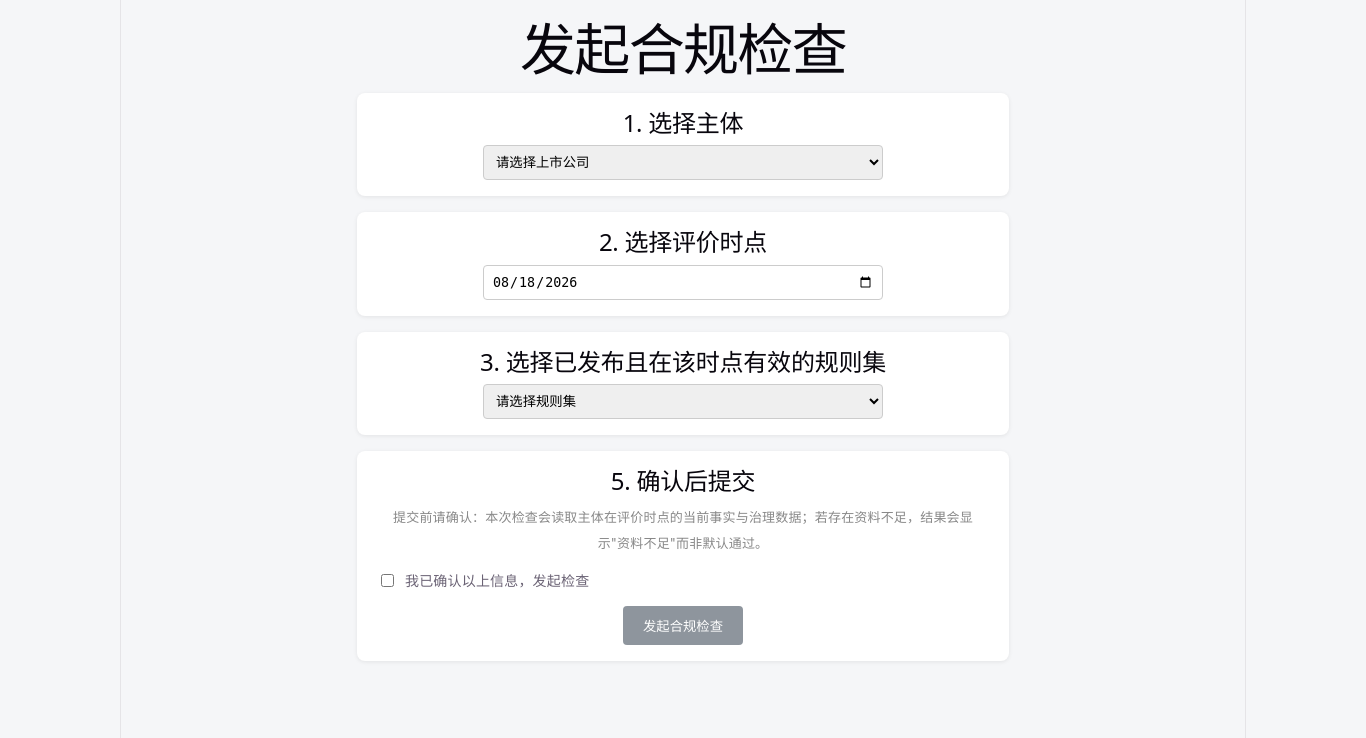
Test case: ComplianceCheckWizardView › shows the backend error and re-enables the button when submission fails
The image size is (1366, 738).
Select "演示上市公司" in the dropdown below "1. 选择主体" at [683, 163], box 483,145 -> 883,180
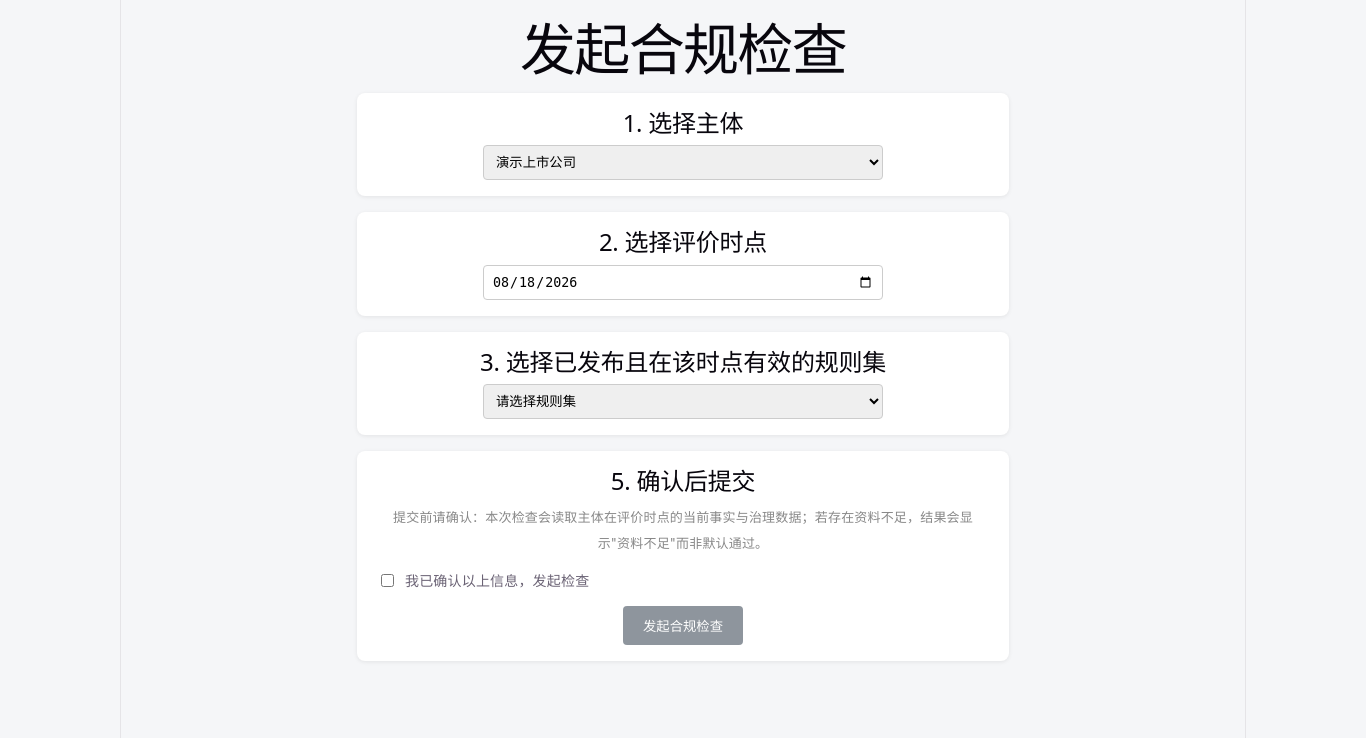
Select "上市公司治理规则集（v1）" in the dropdown below "3. 选择已发布且在该时点有效的规则集" at [683, 402], box 483,384 -> 883,419
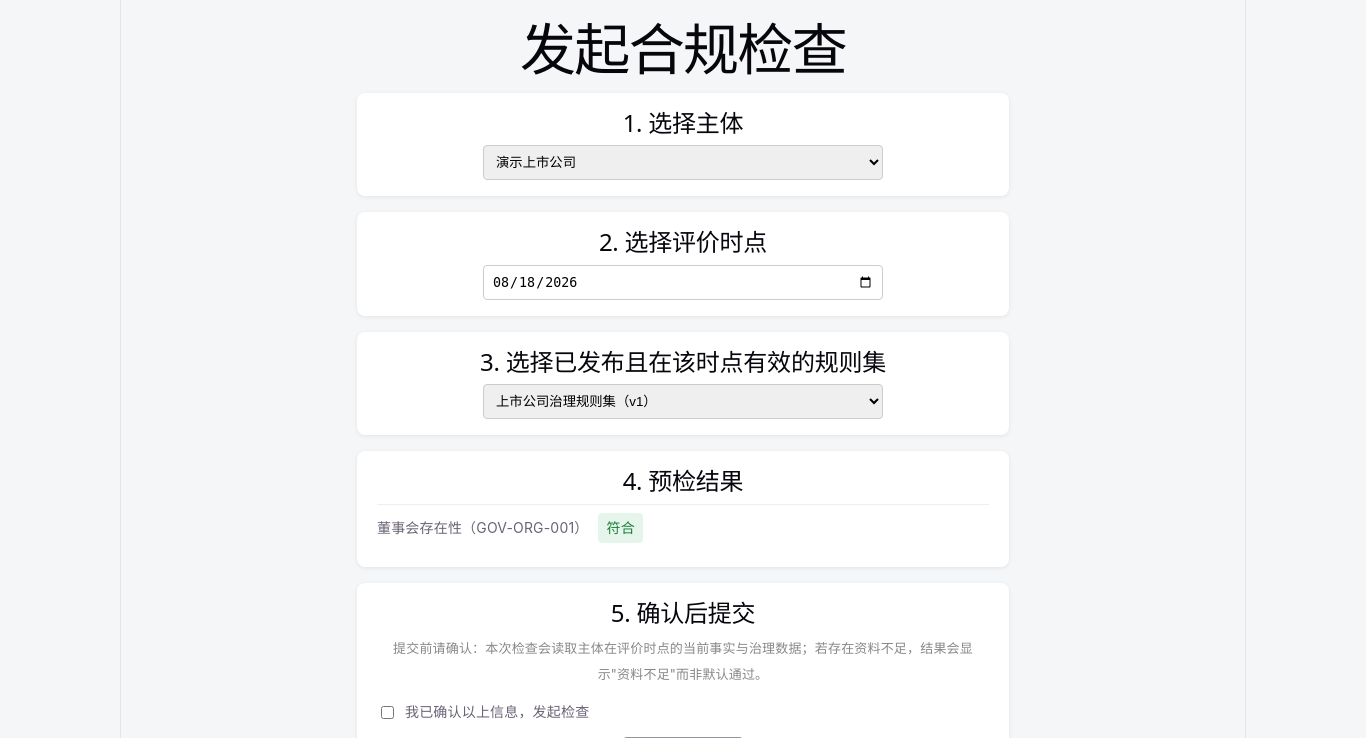
Click the checkbox labelled "我已确认以上信息，发起检查" at [388, 712], box 381,706 -> 394,719
(page scrolled)
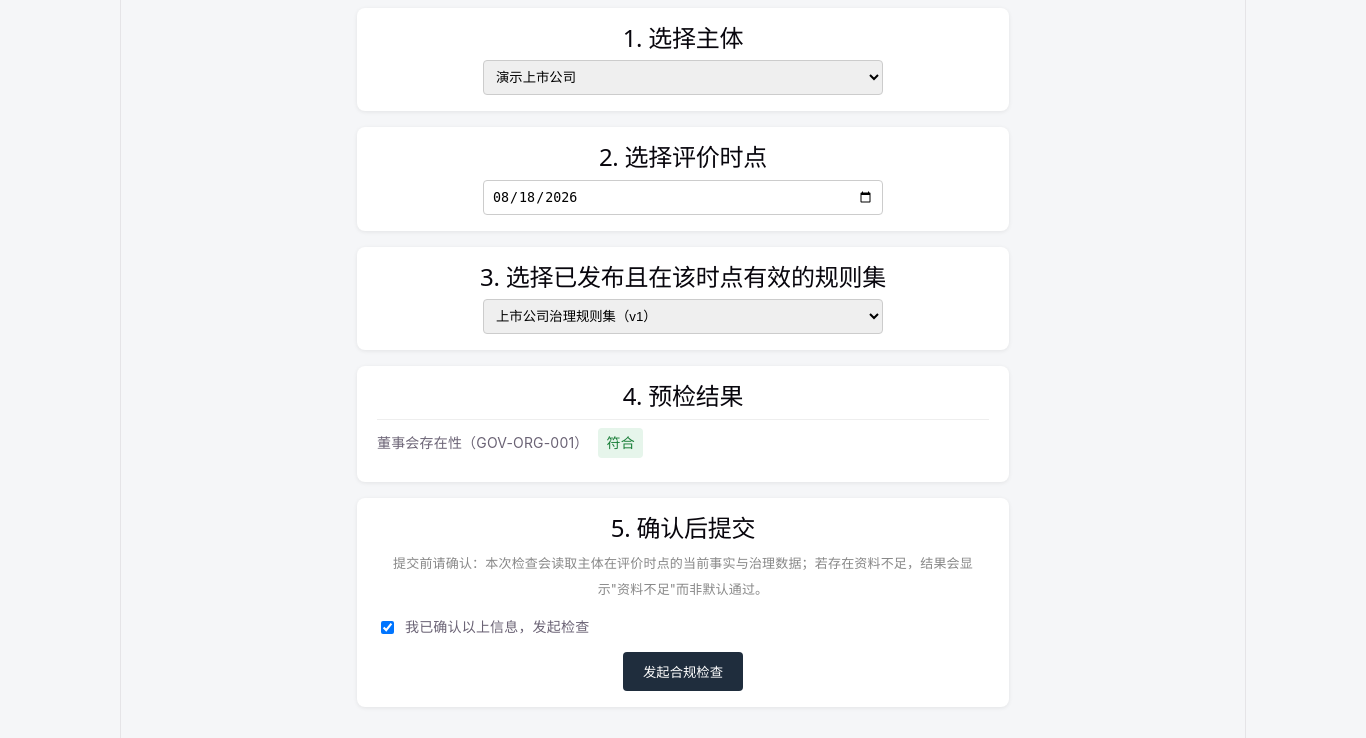
Click the button "发起合规检查" at [683, 672], box 623,652 -> 743,691
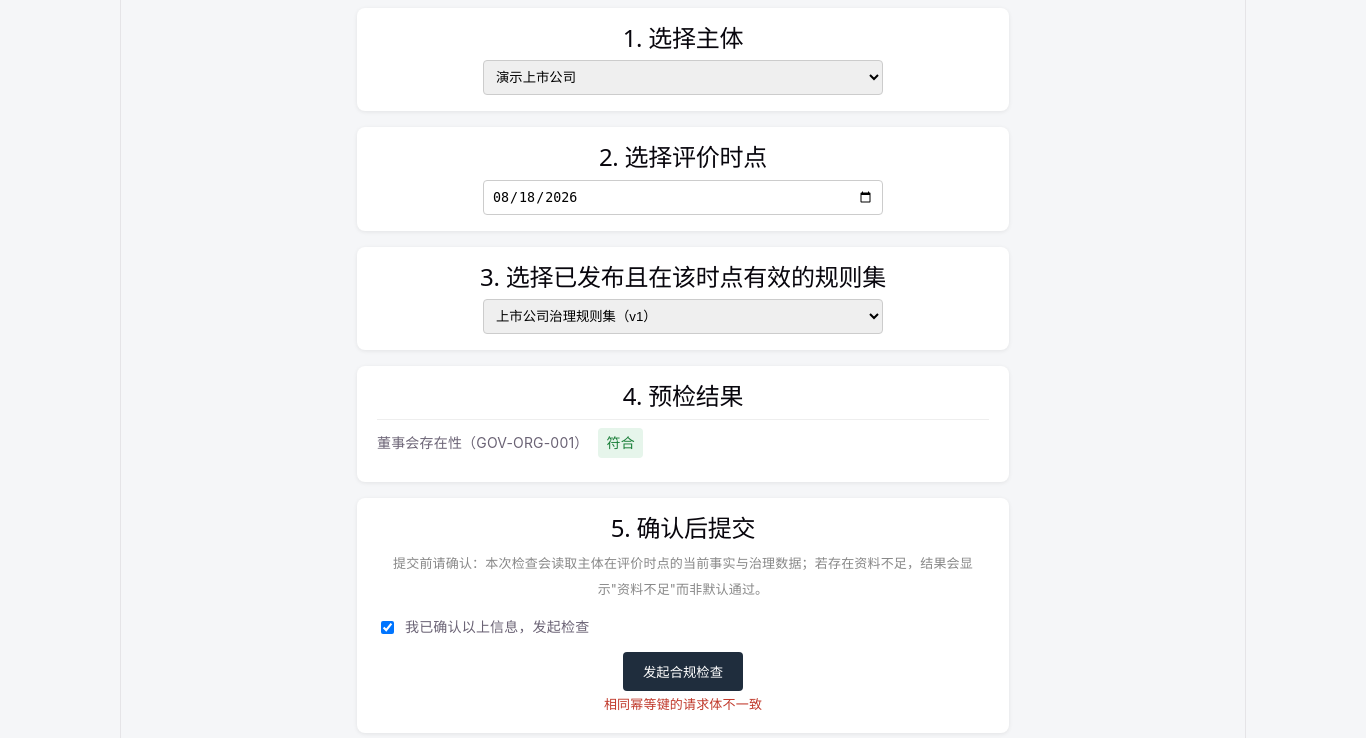
Expected: the button "发起合规检查" is enabled, 623,652 -> 743,691
Expected: the text "相同幂等键的请求体不一致" is shown, 604,696 -> 762,712
